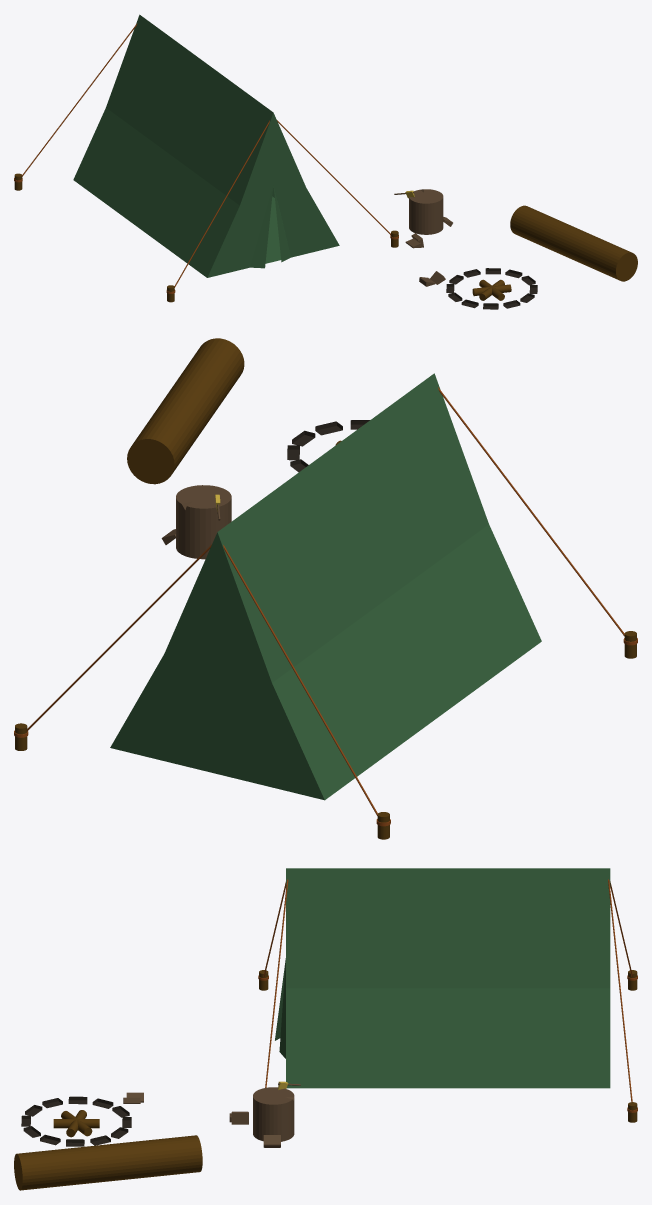
File: T1HouseV1(WithoutFire).fbx
The picture shows the model from 3 angles, top to bottom: view 1: azimuth 30°, elevation 25°; view 2: azimuth 150°, elevation 25°; view 3: azimuth 270°, elevation 25°; orthographic projection. The views are drawn at different scales.
Visible parts, largest first — view 1: Cube, Cylinder.003, Cylinder.002, Cylinder, Cube.001, Cylinder.001; view 2: Cube, Cylinder.003, Cylinder, Cylinder.002, Cube.001; view 3: Cube, Cylinder.003, Cylinder.002, Cylinder, Cube.001, Cylinder.001.
Part boxes in pixels (left/top/right/bottom): Cube: left=73, top=14, right=339, bottom=277; Cylinder.003: left=510, top=205, right=637, bottom=281; Cylinder.002: left=409, top=189, right=443, bottom=234; Cylinder: left=14, top=23, right=398, bottom=302; Cube.001: left=446, top=268, right=537, bottom=309; Cylinder.001: left=472, top=279, right=511, bottom=300; Cube: left=110, top=373, right=541, bottom=800; Cylinder.003: left=127, top=338, right=244, bottom=484; Cylinder: left=14, top=387, right=637, bottom=839; Cylinder.002: left=176, top=485, right=231, bottom=559; Cube.001: left=287, top=420, right=369, bottom=472; Cube: left=275, top=868, right=610, bottom=1088; Cylinder.003: left=14, top=1135, right=202, bottom=1190; Cylinder.002: left=253, top=1087, right=294, bottom=1141; Cylinder: left=258, top=879, right=637, bottom=1122; Cube.001: left=21, top=1096, right=131, bottom=1146; Cylinder.001: left=53, top=1110, right=99, bottom=1137.
Size of the model in its own units: 560 by 222 by 674.
